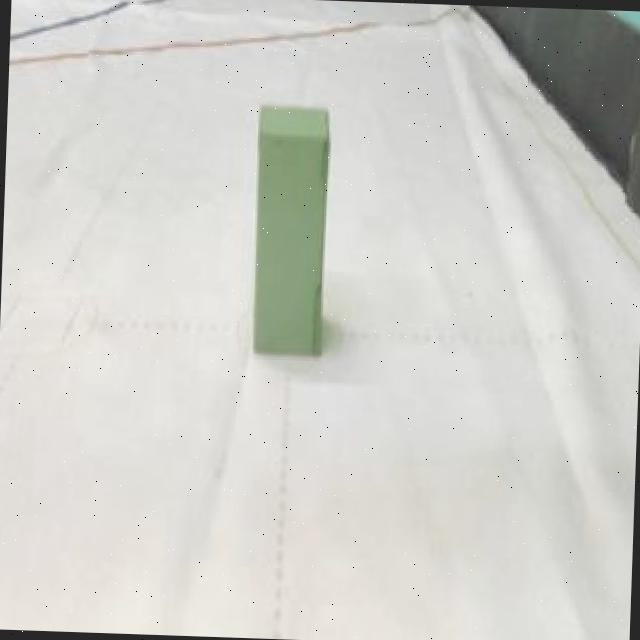greenbox: (244, 102, 333, 356)
